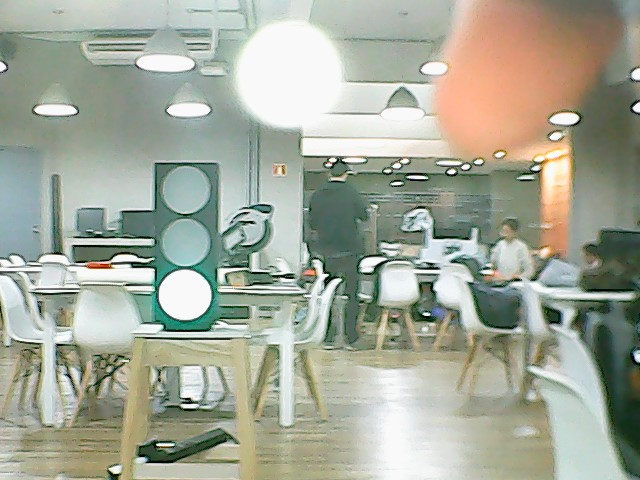verde: (148, 156, 226, 336)
